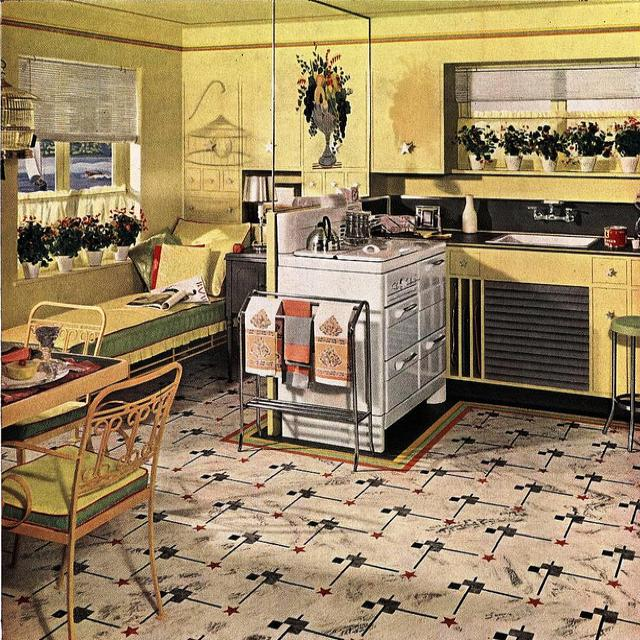chair: (0, 350, 192, 640), (602, 315, 640, 452), (23, 301, 102, 356)
dining table: (3, 343, 130, 431)
